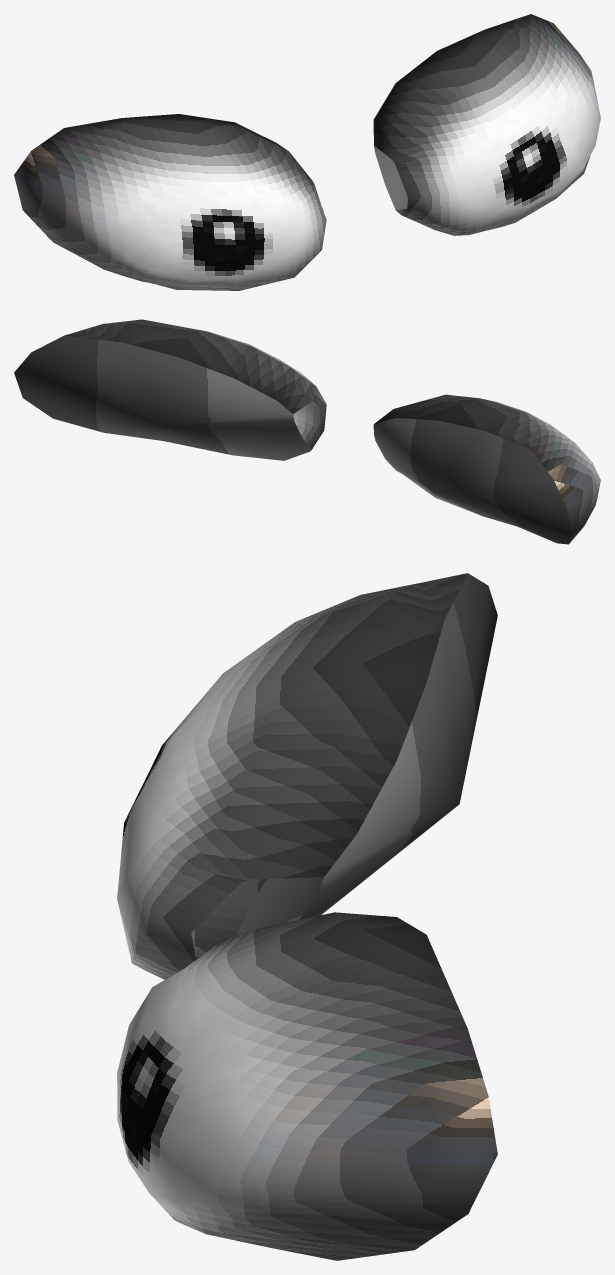
Rendered from m_e_iyu.FBX.
3 views of the same model, one above another, from view 1: azimuth 30°, elevation 25°; view 2: azimuth 150°, elevation 25°; view 3: azimuth 270°, elevation 25° (orthographic). The views are drawn at different scales.
Visible parts, largest first — view 1: Object03; view 2: Object03; view 3: Object03.
Boxes of the visible parts, x1,y1,x2,y2 form: Object03: (14,14,600,290); Object03: (14,319,600,544); Object03: (117,573,497,1260).
Size of the model in its own units: 5.74 by 1.45 by 1.71.
